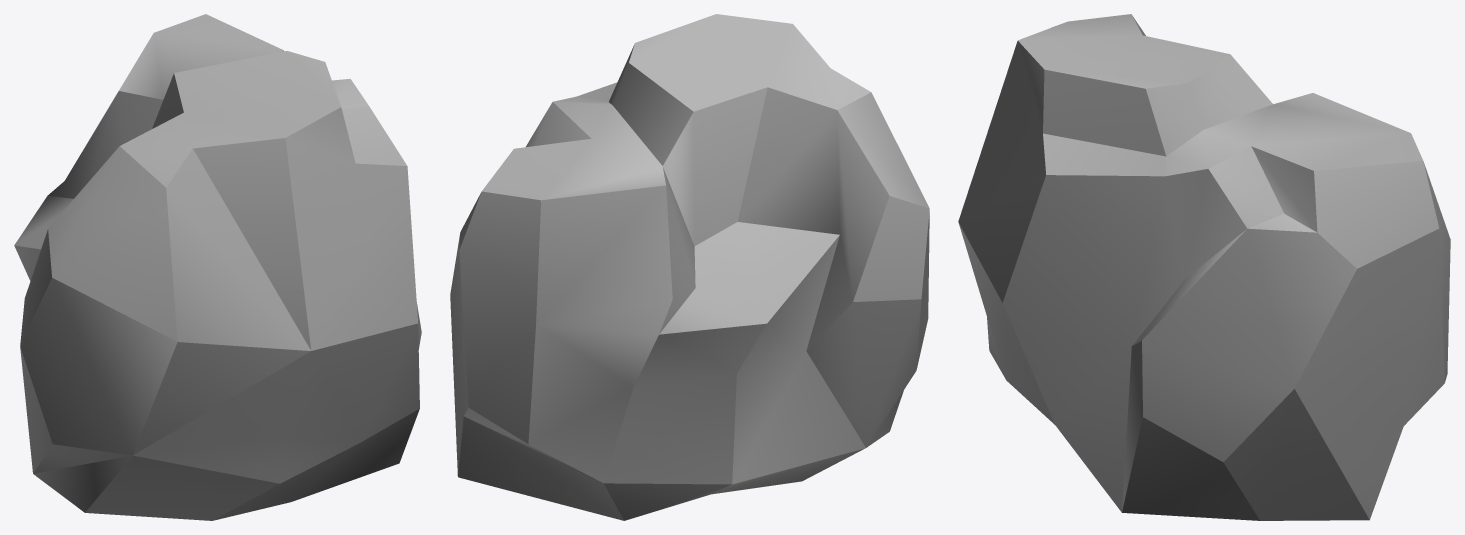
File: SK_Rock_009Collider.FBX
3 views of the same model, side by side, from view 1: azimuth 30°, elevation 25°; view 2: azimuth 150°, elevation 25°; view 3: azimuth 270°, elevation 25° (orthographic). The views are drawn at different scales.
Parts seen in each view (by area): view 1: SK_Rock_009Collider; view 2: SK_Rock_009Collider; view 3: SK_Rock_009Collider.
Part boxes in pixels (box(x1,y1,x2,y2)): SK_Rock_009Collider: box(14, 14, 421, 520); SK_Rock_009Collider: box(450, 14, 929, 520); SK_Rock_009Collider: box(958, 14, 1450, 520).
Size of the model in its own units: 156 by 141 by 158.
Materials: 1 (1 with a texture image).
